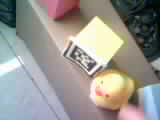duck: (86, 63, 143, 107)
